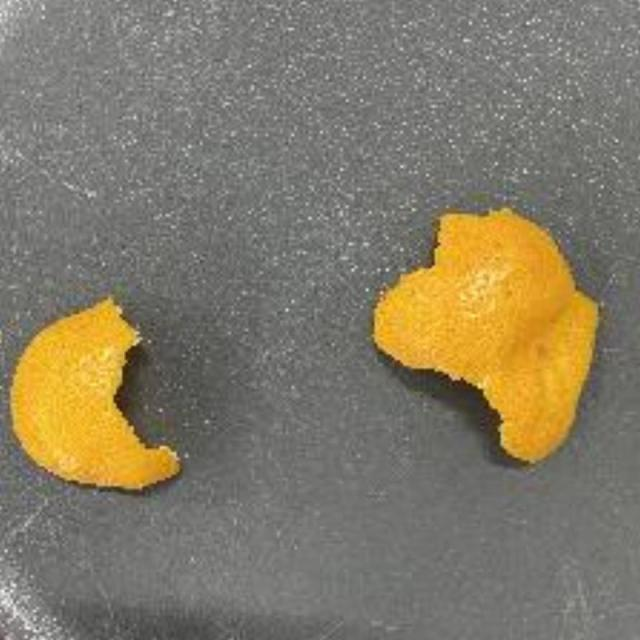orange-peel: (369, 202, 602, 464), (6, 293, 182, 493)
